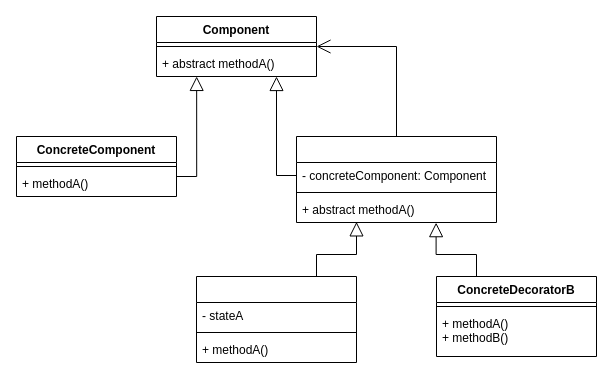
This 613x379 diagram has some shape labels left out. The shapes that lost their labels are listed below. From the top down, each one's box as (x1, y1, x2, y2) in pixels, then its label:
(296, 136, 496, 222): ComponentDecorator
(196, 276, 356, 362): ConcreteDecoratorA
